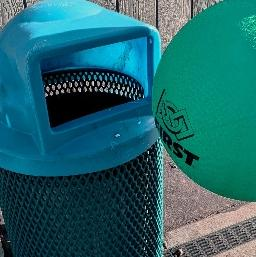algae: (156, 0, 256, 203)
